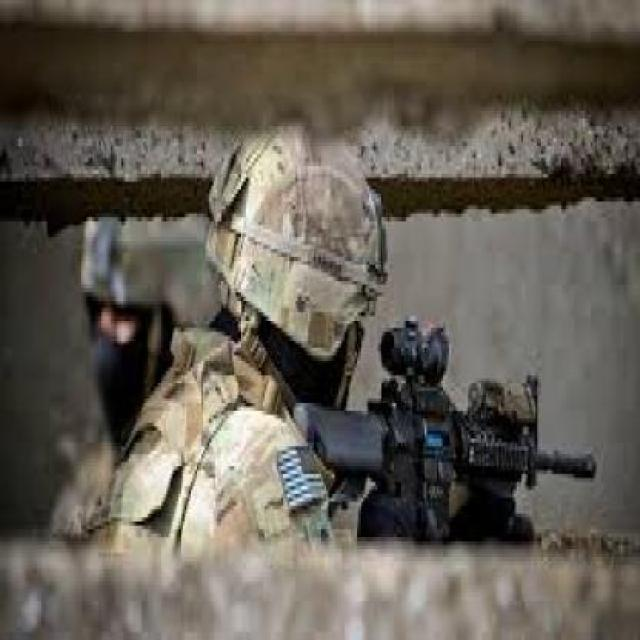weapon: (284, 314, 607, 547)
